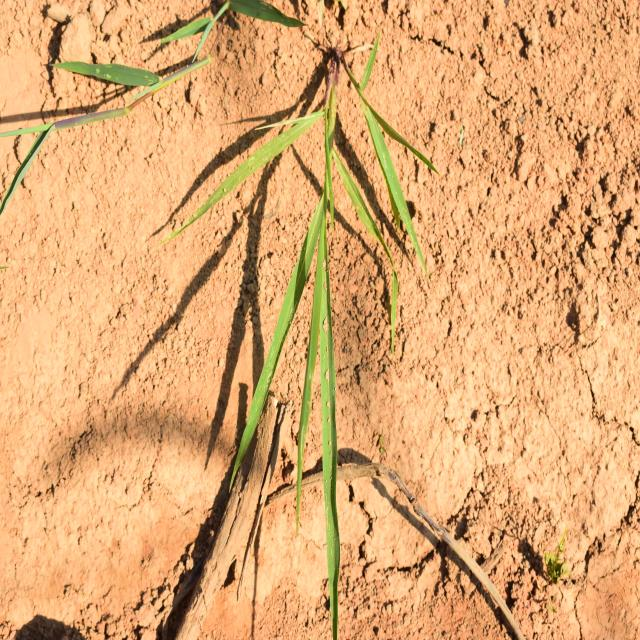green_foxtail: (211, 55, 414, 548)
